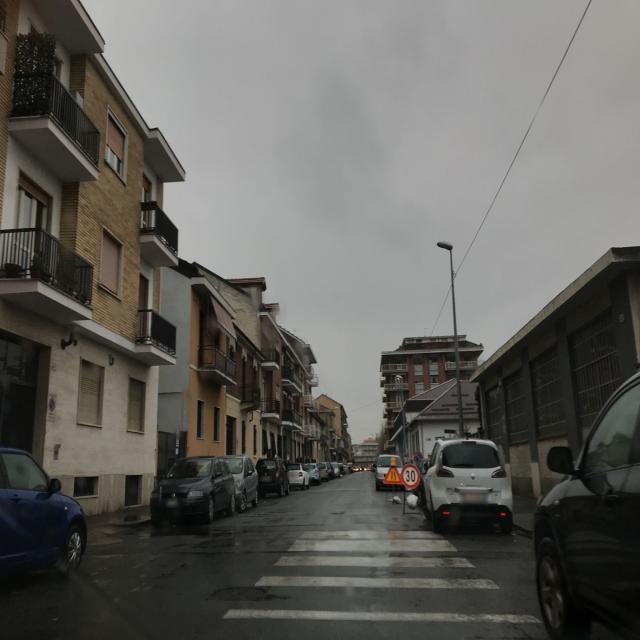forb_stopping: (413, 451, 422, 463)
